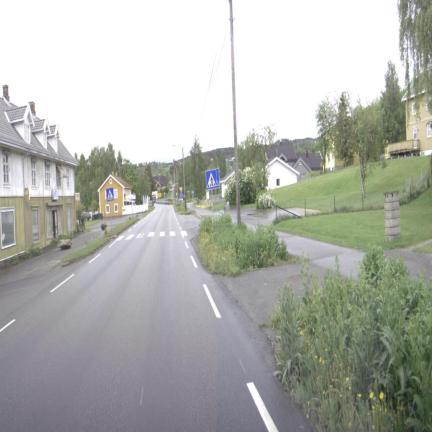Road: (0, 206, 308, 430)
